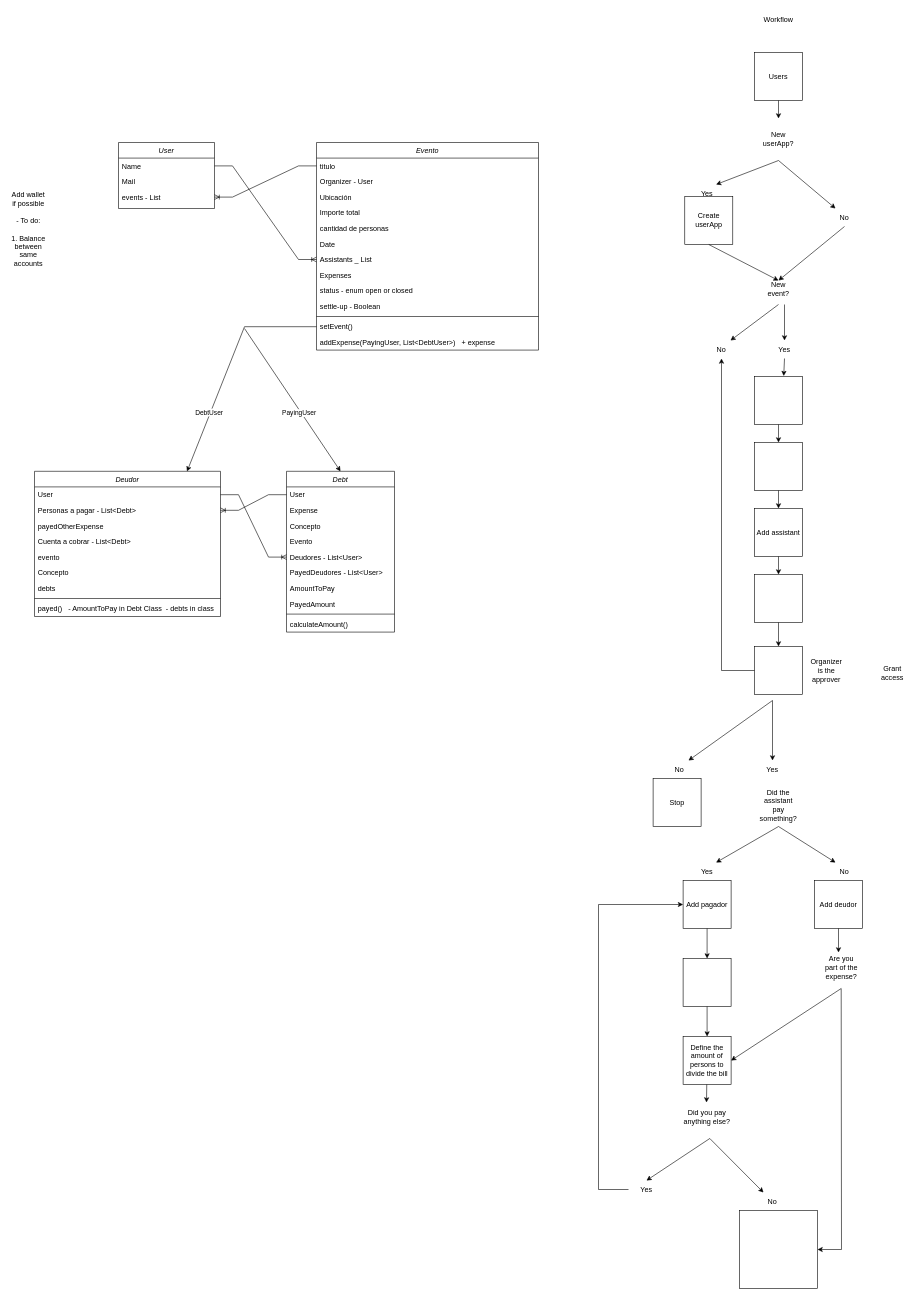
The diagram is 920 pixels wide and 1299 high, and some of its shapes have lost their labels. The shapes that lost their labels are listed below. From the top down, each one's centre as x and y in pixels, then its label:
At point (778, 400): "Set organiser".
At point (778, 466): "Define event".
At point (778, 598): "Request generation (via link)".
At point (778, 670): "Request access".
At point (706, 982): "Add expense to the event".
At point (778, 1249): "Define amounts to pay between deudores and pagadores".
